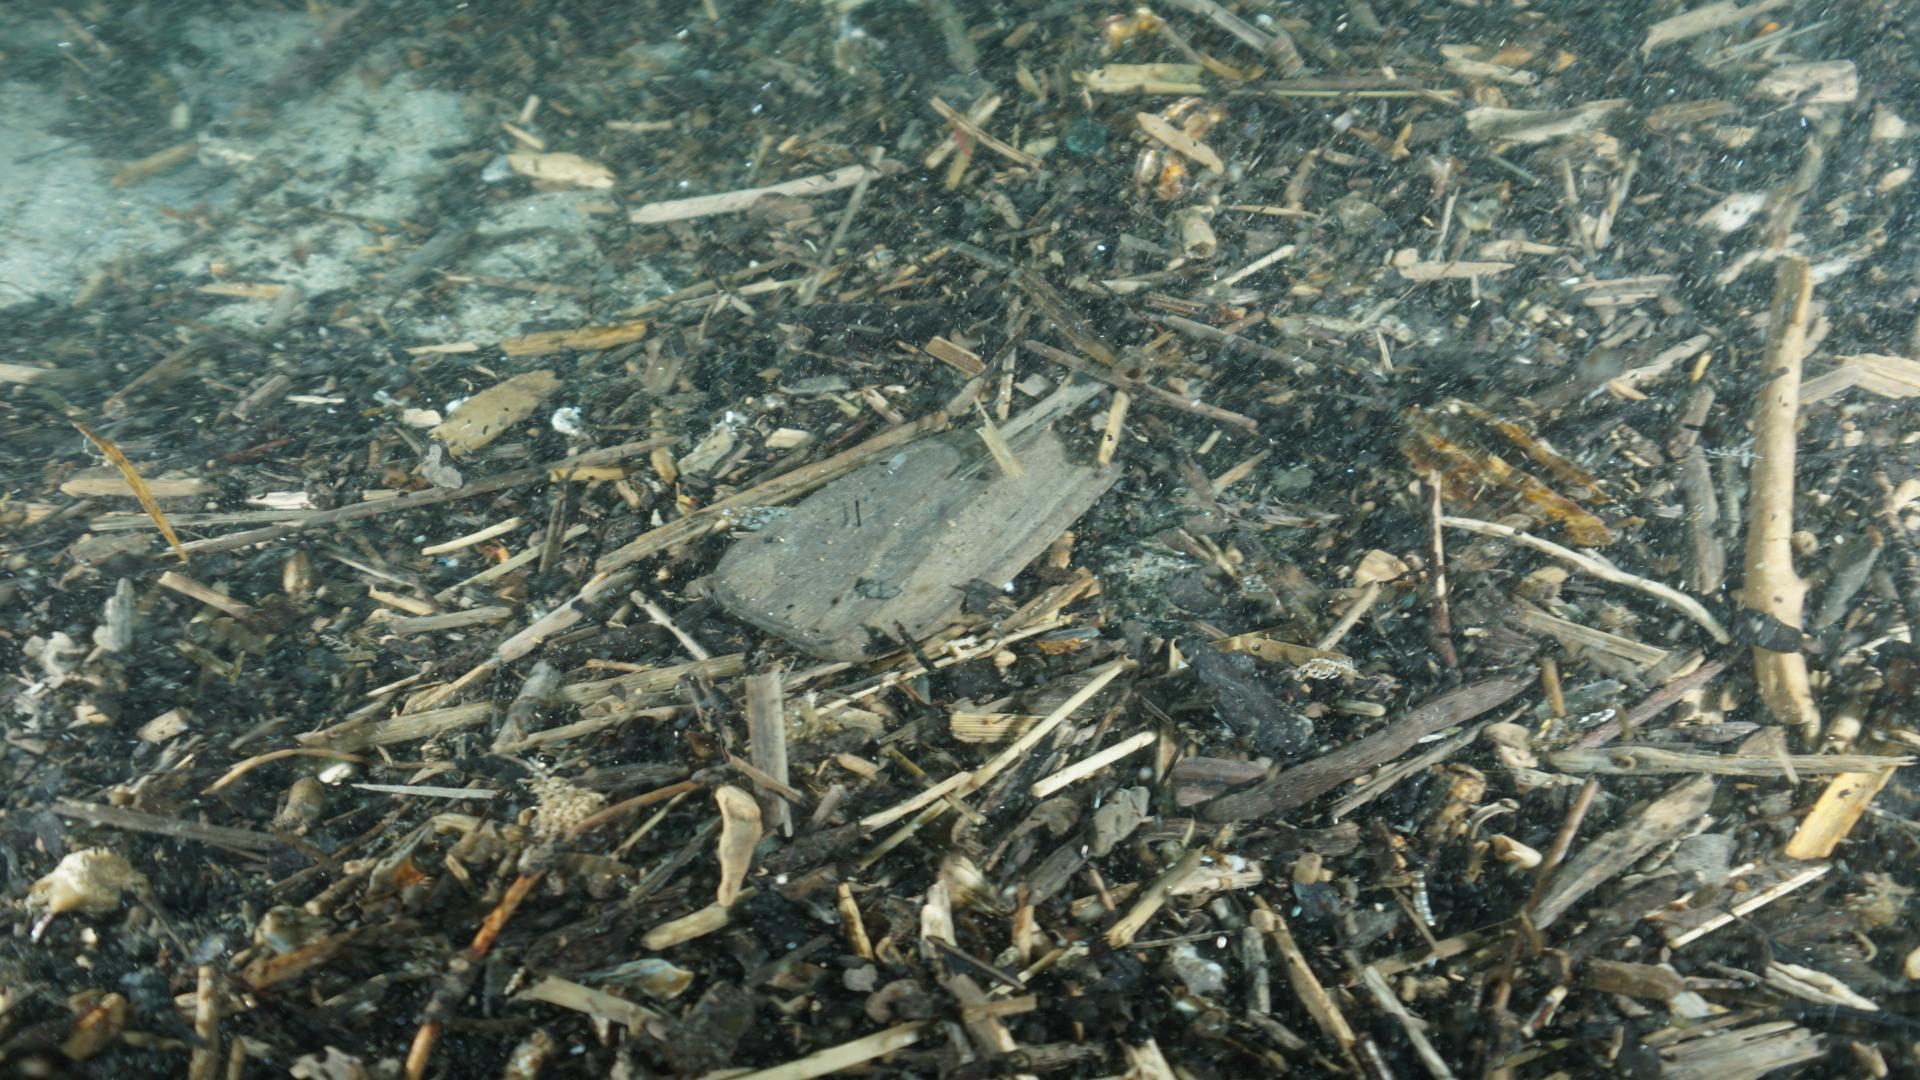wood: (704, 418, 1125, 665)
